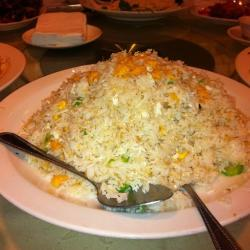rice: (70, 70, 214, 182)
